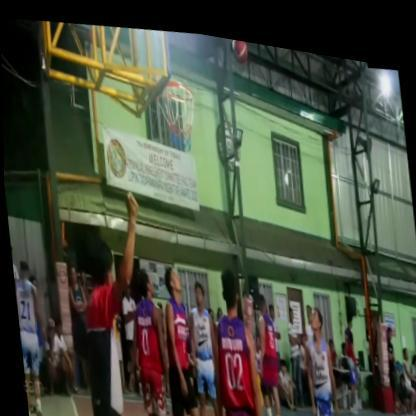basketball: (227, 31, 250, 61)
rim: (150, 58, 206, 168)
